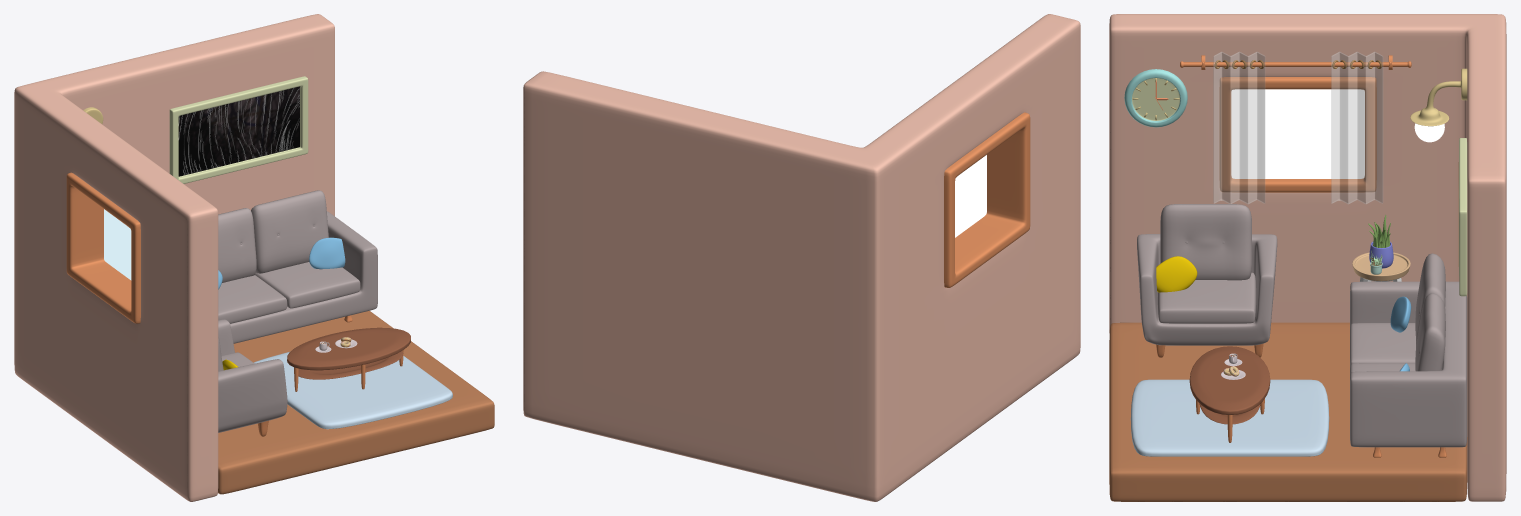
Rendered from room.glb.
3 renders of one model, left to right at view 1: azimuth 30°, elevation 25°; view 2: azimuth 150°, elevation 25°; view 3: azimuth 270°, elevation 25°, orthographic. The views are drawn at different scales.
Parts seen in each view (by area): view 1: Wall_4, Floor_2, Frame_16, Couch_11, Window_17, Rug_5, Couch.001_15, Couch Sofa 1.001_7, Coffee Table_52, Couch Sofa 1_6, Pillow 1.001_10, Coffee Table.001_175; view 2: Wall_4, Window_17; view 3: Wall_4, Floor_2, Window_17, Couch_11, Rug_5, Couch.001_15, Curtain_27, Curtain.001_34, Couch Sofa 1.002_12, Coffee Table_52, Clock_50, Couch Sofa 1.001_7 (+9 smaller).
Part boxes in pixels (x1,y1,x2,y2): Wall_4: [14, 14, 334, 501]; Floor_2: [218, 311, 494, 494]; Frame_16: [169, 76, 308, 183]; Couch_11: [218, 211, 377, 343]; Window_17: [66, 172, 140, 323]; Rug_5: [254, 352, 452, 429]; Couch.001_15: [218, 319, 287, 432]; Couch Sofa 1.001_7: [251, 190, 328, 273]; Coffee Table_52: [287, 327, 410, 370]; Couch Sofa 1_6: [218, 208, 256, 282]; Pillow 1.001_10: [309, 237, 345, 269]; Coffee Table.001_175: [298, 351, 403, 379]; Wall_4: [523, 14, 1080, 501]; Window_17: [944, 112, 1030, 287]; Wall_4: [1109, 14, 1506, 501]; Floor_2: [1109, 322, 1467, 501]; Window_17: [1219, 77, 1376, 192]; Couch_11: [1350, 281, 1467, 447]; Rug_5: [1130, 379, 1329, 456]; Couch.001_15: [1137, 234, 1277, 345]; Curtain_27: [1213, 52, 1264, 203]; Curtain.001_34: [1331, 52, 1382, 203]; Couch Sofa 1.002_12: [1160, 204, 1251, 280]; Coffee Table_52: [1189, 346, 1270, 414]; Clock_50: [1124, 69, 1187, 127]; Couch Sofa 1.001_7: [1415, 293, 1445, 371].
Bounding box in the file's own units: 3.44 × 3.04 × 3.38.
Materials: 34 (1 with a texture image).
